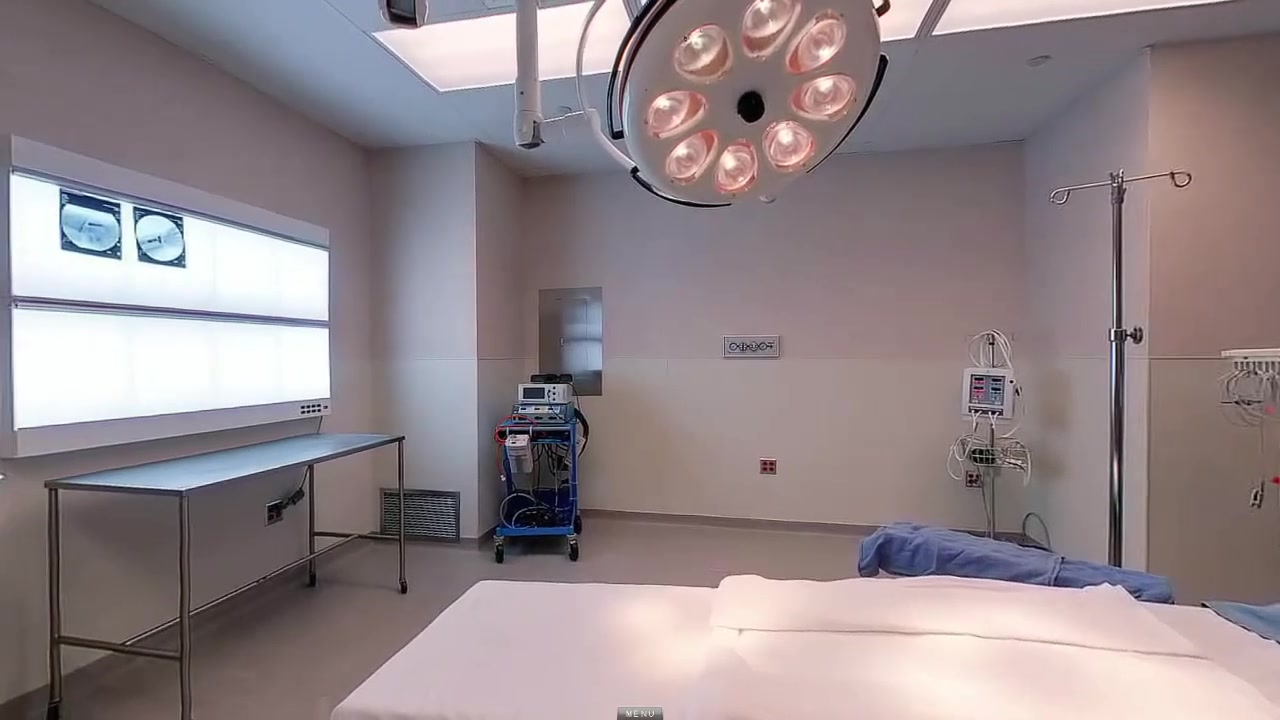electrosurgical_unit: (509, 402, 574, 424)
iv_pole: (1046, 168, 1189, 565), (964, 330, 1015, 539)
operating_bed: (334, 573, 1280, 720)
surgical_light: (605, 1, 899, 206)
table: (37, 433, 405, 720)
